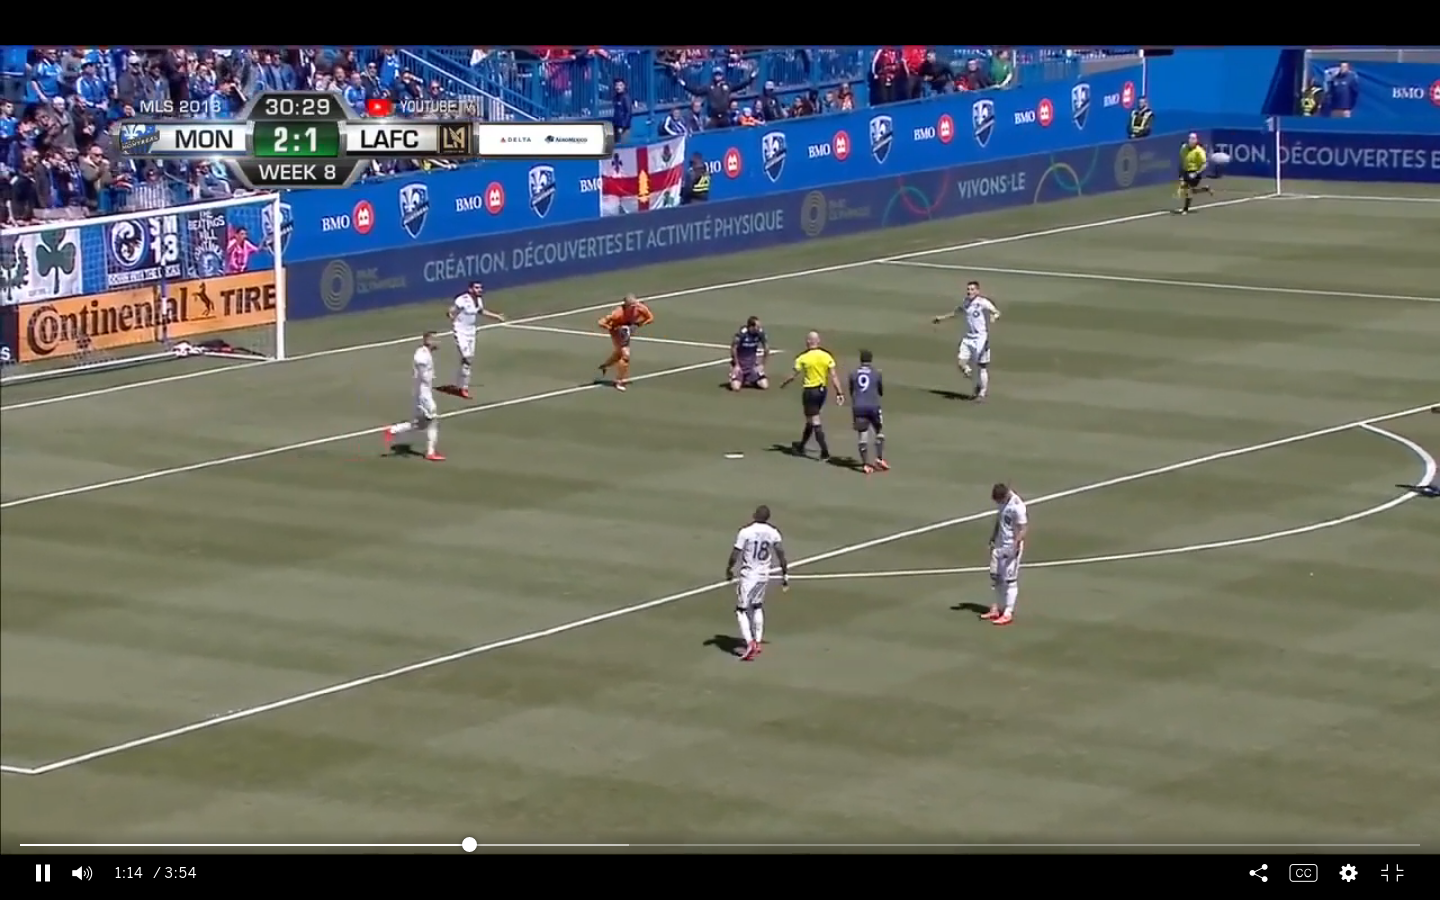referee: (780, 330, 837, 461), (1175, 133, 1212, 214)
soccer player: (721, 501, 791, 670), (379, 327, 451, 469), (939, 275, 1004, 406), (443, 279, 504, 399), (984, 479, 1029, 630), (844, 346, 896, 479), (588, 286, 653, 391), (727, 311, 773, 391)
